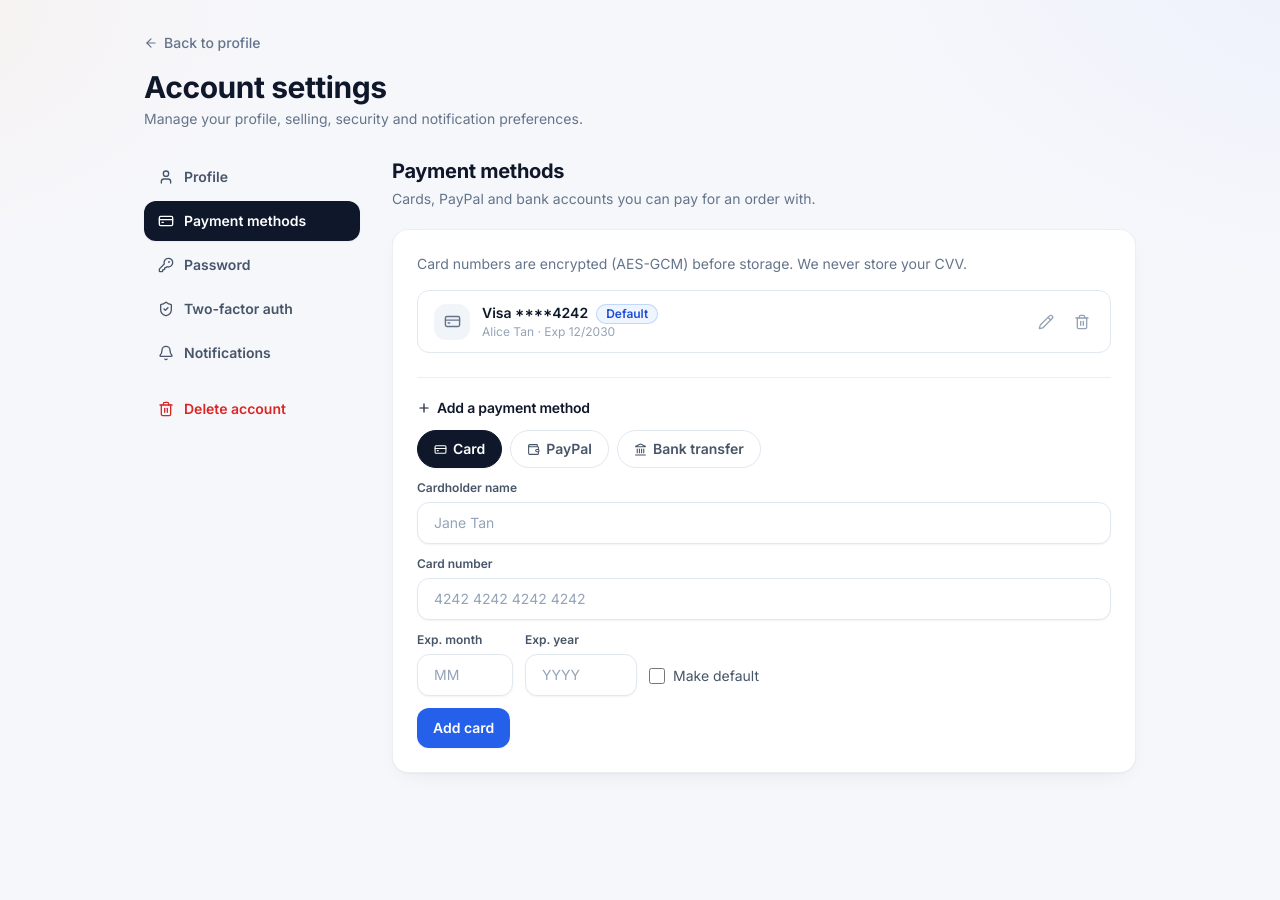
Test: editing a saved payment method › closes the editor without saving when cancelled
This screenshot has width=1280, height=900.
Click the button named "Edit Visa" at (1046, 322), box [1034,310,1058,334]
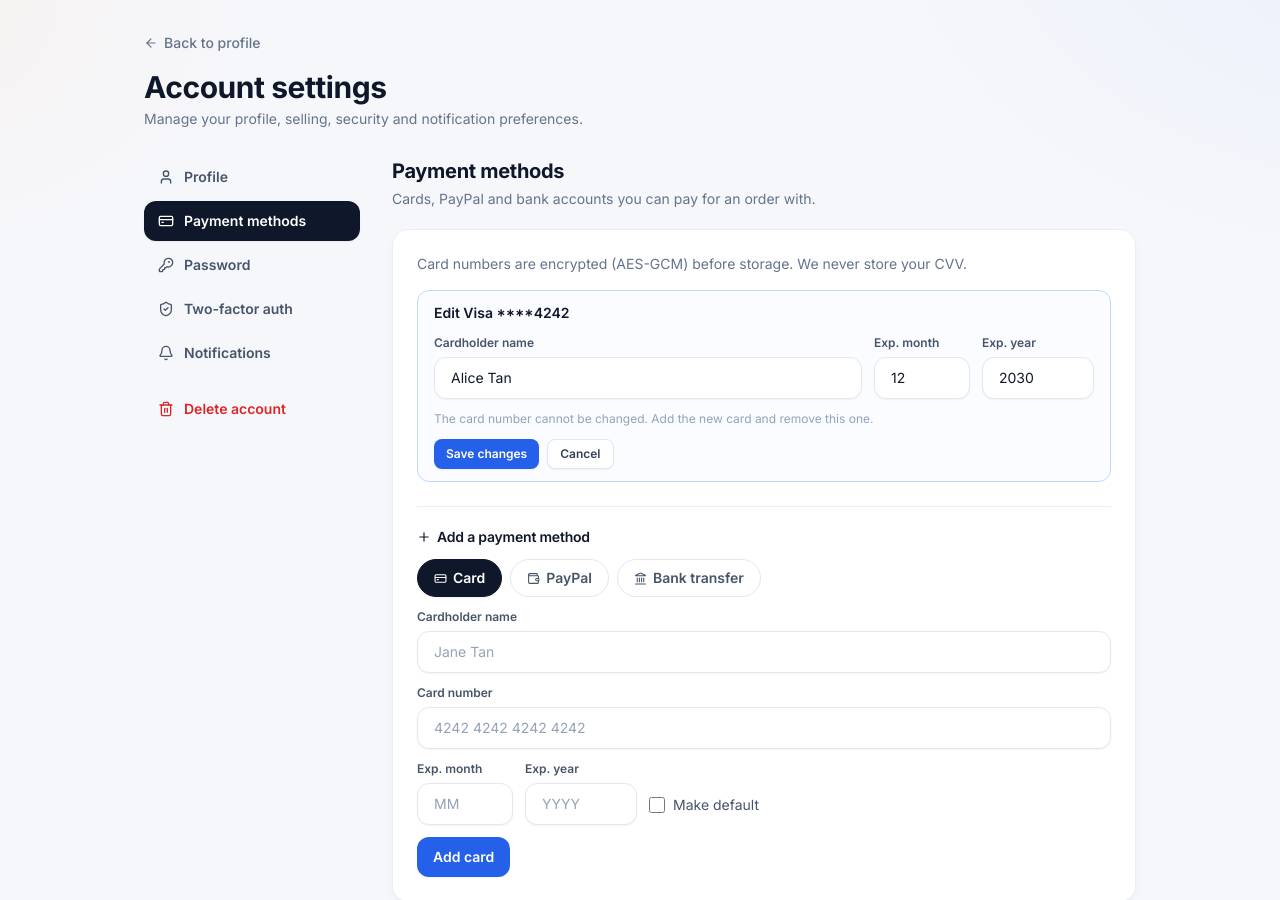
Click the button "Cancel" at (580, 454), box [547,439,614,469]
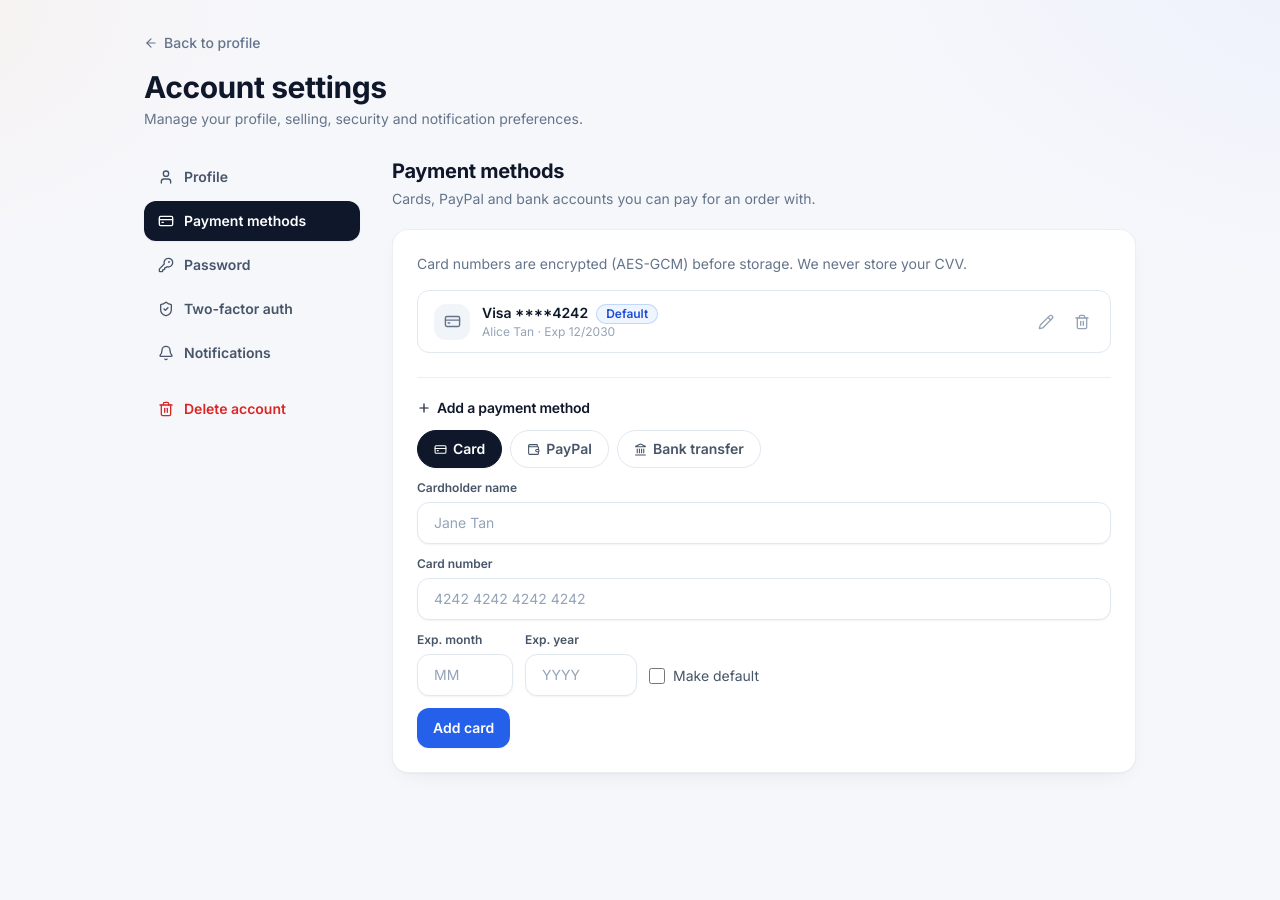
Expected: the text "Edit Visa" is gone
